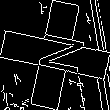N_W: (26, 30, 84, 80)
